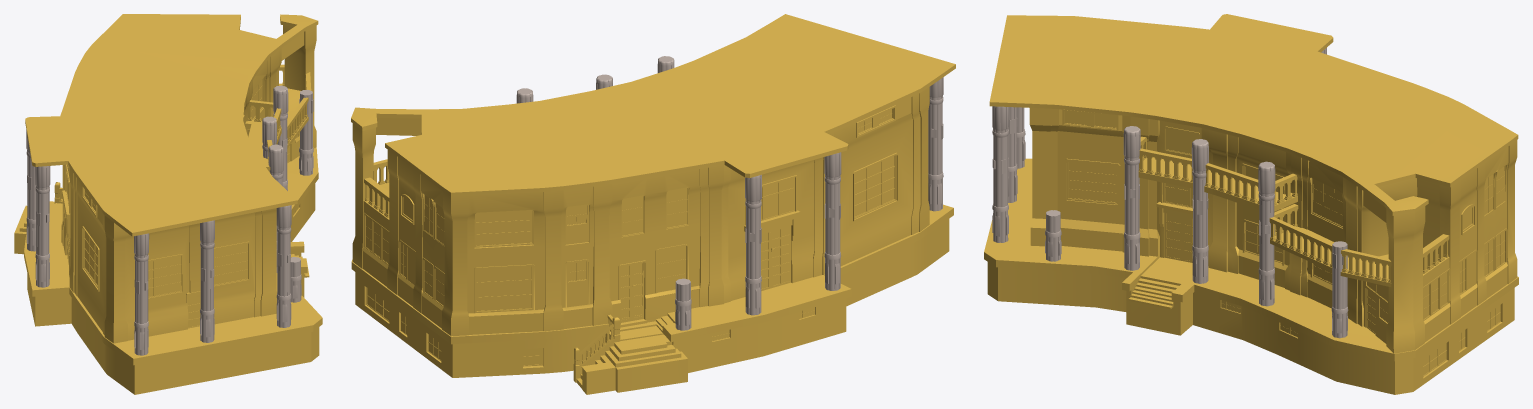
Rendered from BílkovaVila.fbx.
The picture shows the model from 3 angles, left to right: view 1: azimuth 30°, elevation 25°; view 2: azimuth 150°, elevation 25°; view 3: azimuth 270°, elevation 25°; orthographic projection. The views are drawn at different scales.
Visible parts, largest first — view 1: BilkovaVilaMain, BilkovaVilaPillar6, BilkovaVilaPillar7, BilkovaVilaPillar8, BilkovaVilaPillar9, BilkovaVilaPillar1, BilkovaVilaPillar10, BilkovaVilaPillar2, BilkovaVilaPillar4, BilkovaVilaPillar5, BilkovaVilaPillar3; view 2: BilkovaVilaMain, BilkovaVilaPillar9, BilkovaVilaPillar10, BilkovaVilaPillar8, BilkovaVilaPillar11; view 3: BilkovaVilaMain, BilkovaVilaPillar4, BilkovaVilaPillar3, BilkovaVilaPillar2, BilkovaVilaPillar6, BilkovaVilaPillar1, BilkovaVilaPillar7, BilkovaVilaPillar5, BilkovaVilaPillar8.
Part boxes in pixels (x1=…): BilkovaVilaMain: x1=14, y1=14, x2=322, y2=394; BilkovaVilaPillar6: x1=276, y1=205, x2=291, y2=327; BilkovaVilaPillar7: x1=200, y1=220, x2=214, y2=342; BilkovaVilaPillar8: x1=134, y1=233, x2=149, y2=355; BilkovaVilaPillar9: x1=35, y1=166, x2=50, y2=287; BilkovaVilaPillar1: x1=299, y1=89, x2=313, y2=175; BilkovaVilaPillar10: x1=26, y1=130, x2=36, y2=251; BilkovaVilaPillar2: x1=273, y1=85, x2=288, y2=190; BilkovaVilaPillar4: x1=268, y1=144, x2=283, y2=272; BilkovaVilaPillar5: x1=290, y1=257, x2=301, y2=302; BilkovaVilaPillar3: x1=262, y1=116, x2=276, y2=158; BilkovaVilaMain: x1=351, y1=14, x2=955, y2=394; BilkovaVilaPillar9: x1=824, y1=152, x2=841, y2=290; BilkovaVilaPillar10: x1=745, y1=174, x2=761, y2=315; BilkovaVilaPillar8: x1=928, y1=77, x2=943, y2=211; BilkovaVilaPillar11: x1=675, y1=278, x2=691, y2=330; BilkovaVilaMain: x1=984, y1=14, x2=1518, y2=394; BilkovaVilaPillar4: x1=1123, y1=126, x2=1140, y2=270; BilkovaVilaPillar3: x1=1191, y1=139, x2=1208, y2=283; BilkovaVilaPillar2: x1=1258, y1=161, x2=1275, y2=306; BilkovaVilaPillar6: x1=992, y1=106, x2=1008, y2=242; BilkovaVilaPillar1: x1=1331, y1=241, x2=1348, y2=338; BilkovaVilaPillar7: x1=1008, y1=107, x2=1017, y2=202; BilkovaVilaPillar5: x1=1045, y1=210, x2=1061, y2=261; BilkovaVilaPillar8: x1=1016, y1=107, x2=1025, y2=168.
Bounding box in the file's own units: 2523 × 1098 × 2870.
